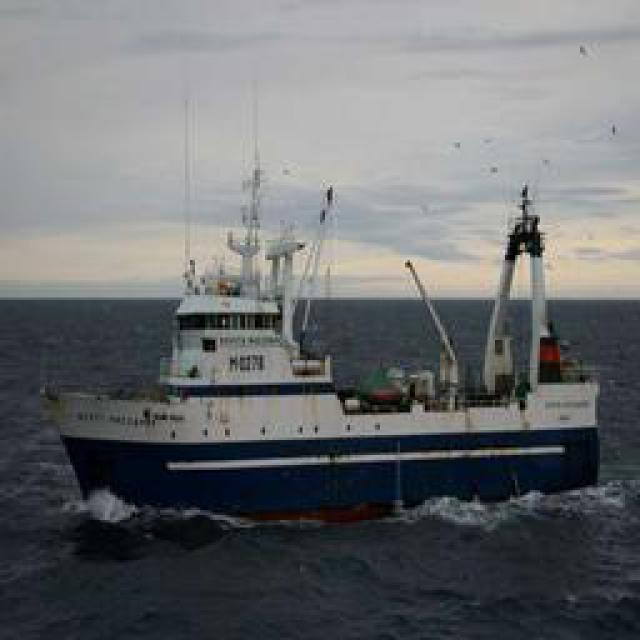Ship: (46, 82, 609, 515)
